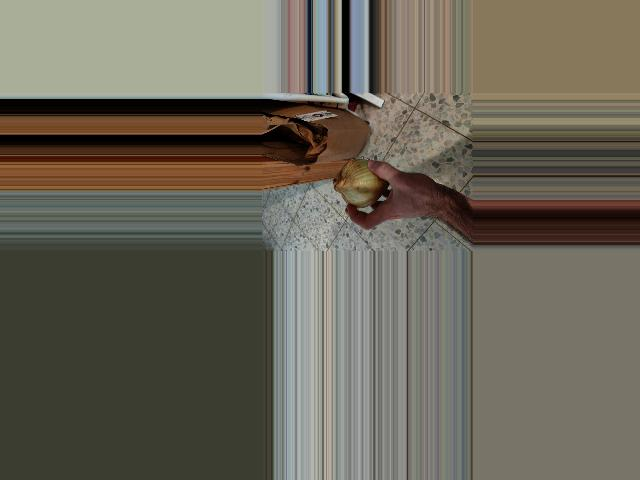onion: (334, 158, 395, 207)
